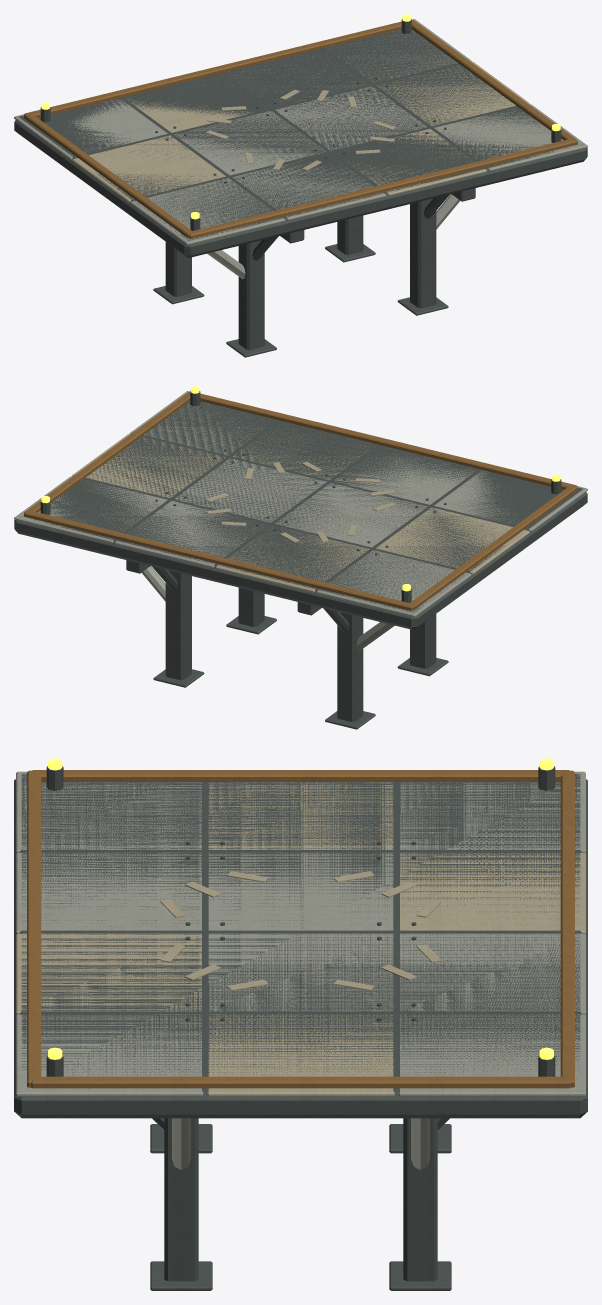
File: landing-dock.glb
3 renders of one model, top to bottom at view 1: azimuth 30°, elevation 25°; view 2: azimuth 150°, elevation 25°; view 3: azimuth 270°, elevation 25°, orthographic. The views are drawn at different scales.
Visible parts, largest first — view 1: Ship_Hull | Population brass and hull alloy.002; view 2: Ship_Hull | Population brass and hull alloy.002; view 3: Ship_Hull | Population brass and hull alloy.002.
Part boxes in pixels (x1,y1,x2,y2): Ship_Hull | Population brass and hull alloy.002: [14, 19, 587, 357]; Ship_Hull | Population brass and hull alloy.002: [14, 391, 587, 729]; Ship_Hull | Population brass and hull alloy.002: [14, 766, 587, 1290].
Size of the model in its own units: 8 by 3.5 by 6.
Materials: 2 (1 with a texture image).
